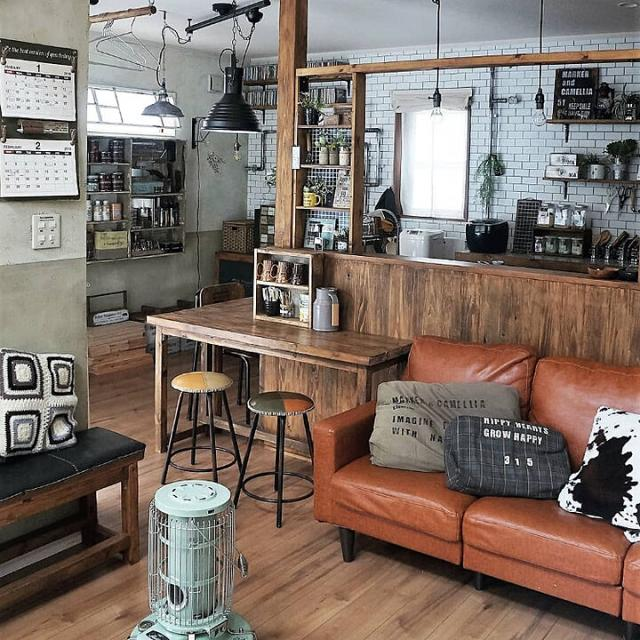vintage chair: (238, 383, 318, 529), (153, 371, 245, 494)
vintage sofa: (311, 317, 640, 631)
